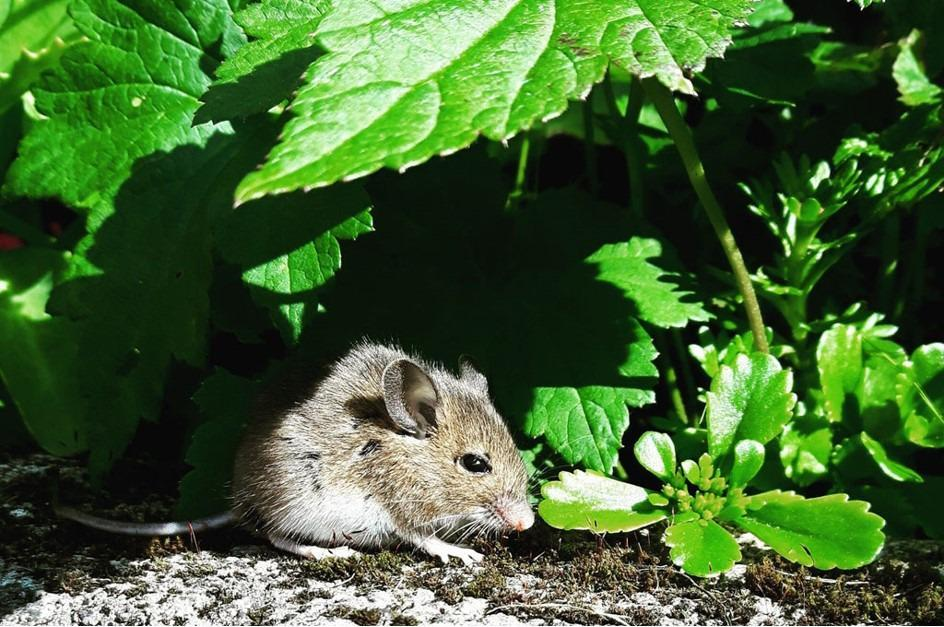rat: (59, 330, 535, 572)
